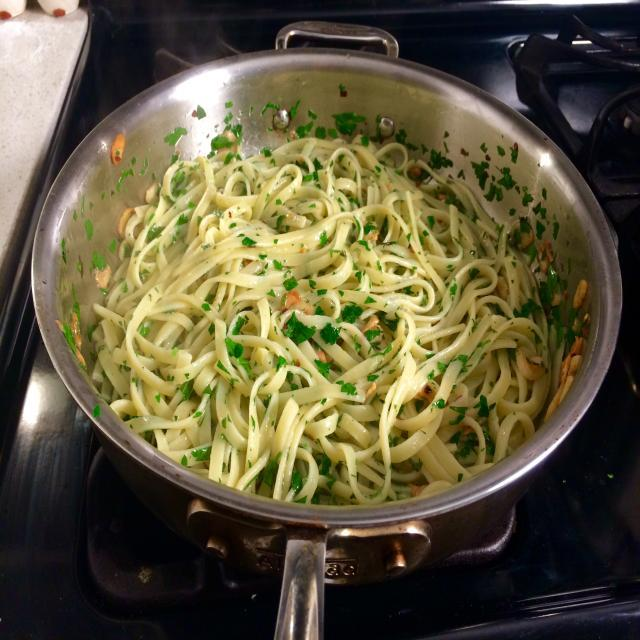Oil pasta: (54, 77, 584, 559)
